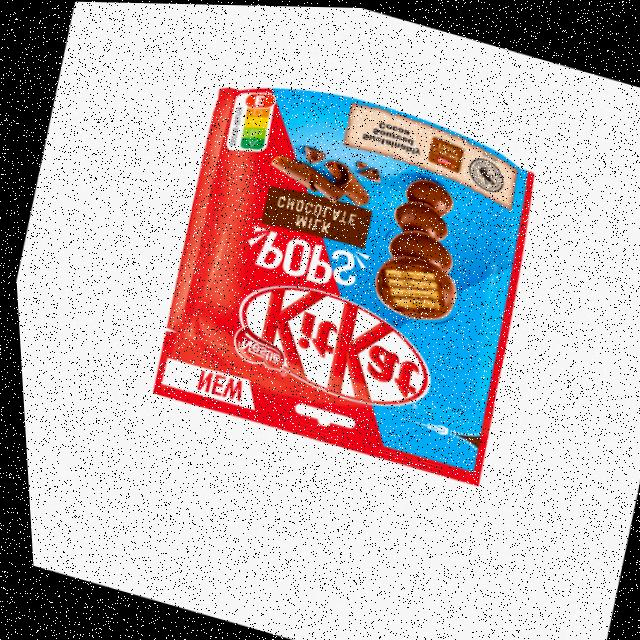kitkat: (128, 61, 557, 488)
